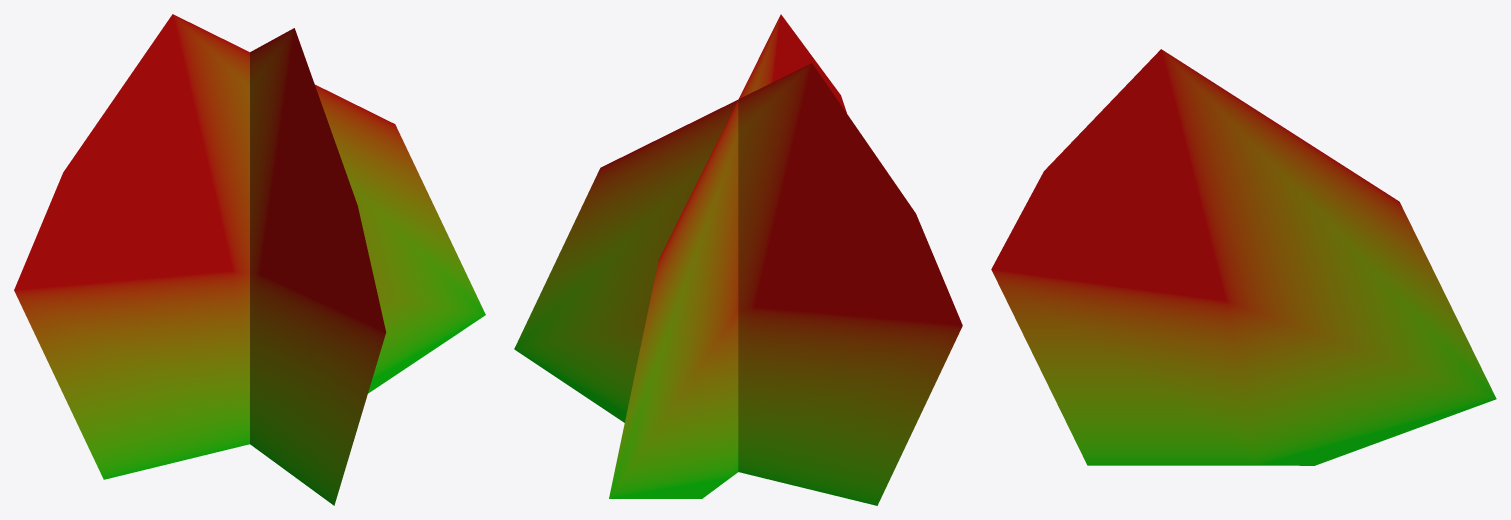
File: Kikuyu Grass_LOD6_Var13_wiljearqx.fbx
3 views of the same model, side by side, from view 1: azimuth 30°, elevation 25°; view 2: azimuth 150°, elevation 25°; view 3: azimuth 270°, elevation 25° (orthographic). The views are drawn at different scales.
Parts seen in each view (by area): view 1: _f5tj_Var13_LOD6; view 2: _f5tj_Var13_LOD6; view 3: _f5tj_Var13_LOD6.
Boxes of the visible parts, x1,y1,x2,y2 form: _f5tj_Var13_LOD6: [14, 14, 485, 505]; _f5tj_Var13_LOD6: [514, 14, 962, 505]; _f5tj_Var13_LOD6: [991, 49, 1496, 465].
Bounding box in the file's own units: 55.4 × 50.41 × 55.4.
